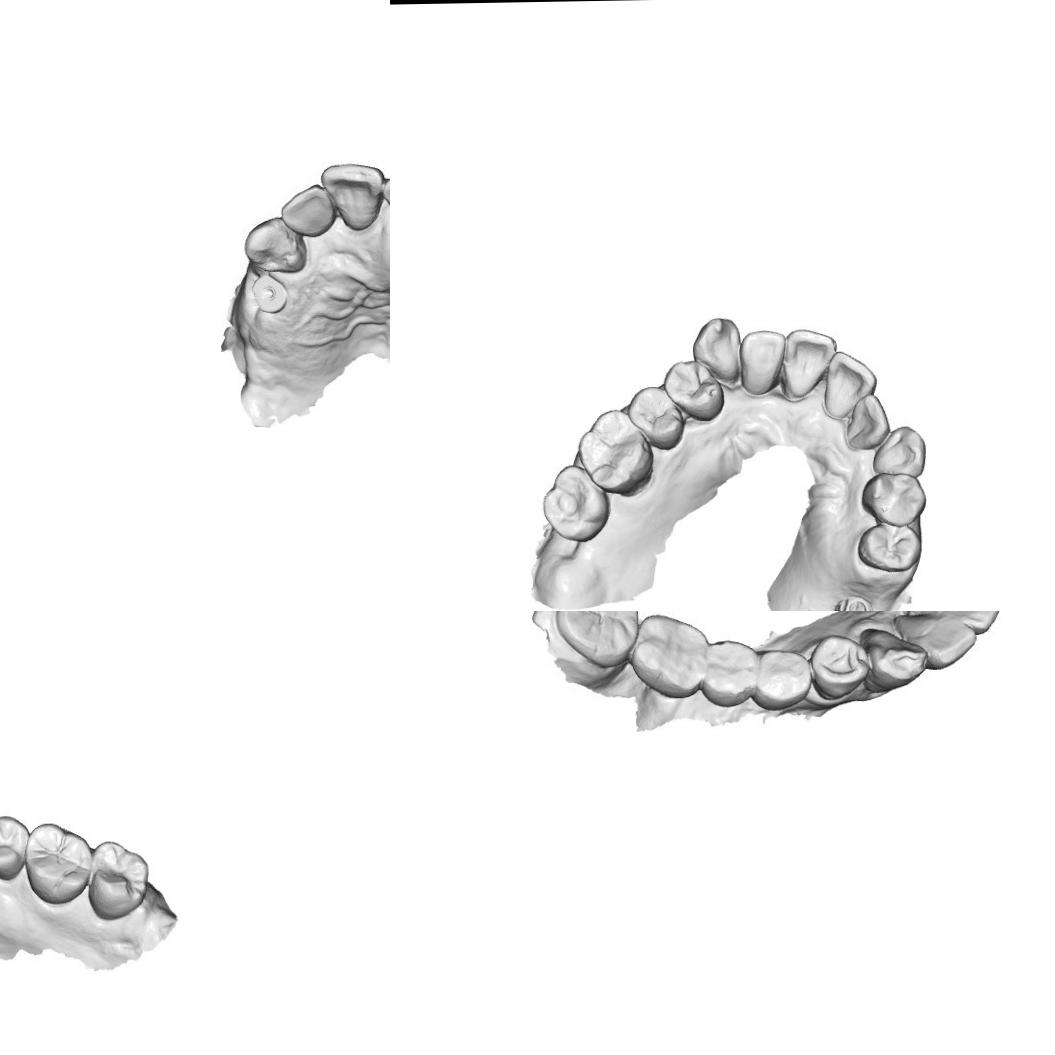canine: (860, 625, 925, 698), (240, 216, 309, 274), (688, 316, 744, 386), (869, 425, 926, 478)
implant: (253, 278, 289, 312), (835, 594, 873, 611)
incisor: (320, 161, 384, 232), (897, 611, 973, 667), (782, 324, 835, 398), (819, 351, 877, 414), (278, 182, 336, 239), (843, 390, 891, 450), (738, 330, 785, 389), (914, 611, 1000, 636)
molar: (574, 408, 654, 494), (632, 611, 709, 695), (21, 820, 95, 904), (539, 464, 611, 543), (86, 838, 150, 922), (559, 611, 636, 665)
premolar: (808, 632, 872, 702), (700, 636, 761, 706), (627, 383, 686, 451), (662, 358, 726, 420), (859, 471, 926, 530), (752, 646, 812, 704), (858, 521, 921, 573), (0, 815, 31, 881)
